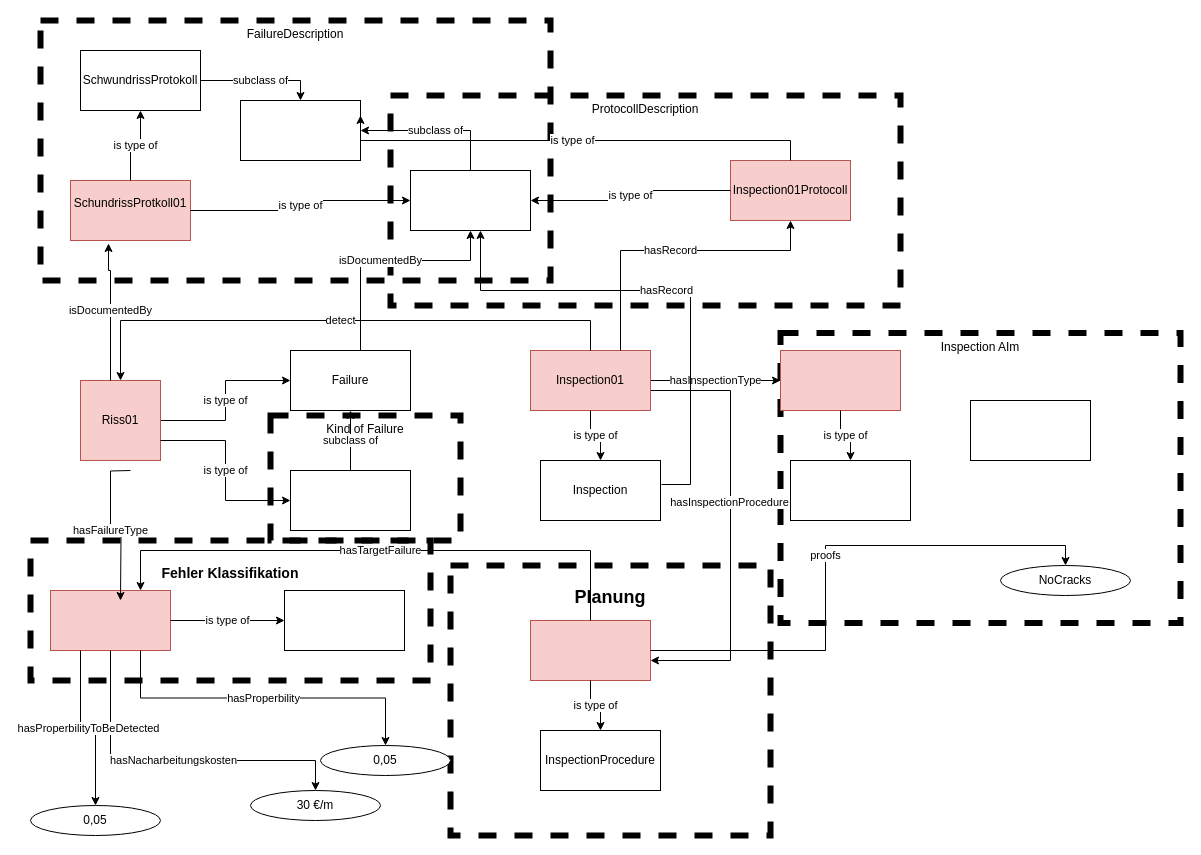
Some shapes in this 1201 by 855 pixel diagram are drawn without their labels. The centre of each missing label's shape, as x and y in pixels:
Confirmity: [350,500]
FailureType: [344,620]
InspectionType: [850,490]
Nachweis: [1030,430]
Protokoll: [300,130]
Record: [470,200]
RissPrüfung: [840,380]
Schwundriss: [110,620]
VisuelleRissPrüfung: [590,650]
